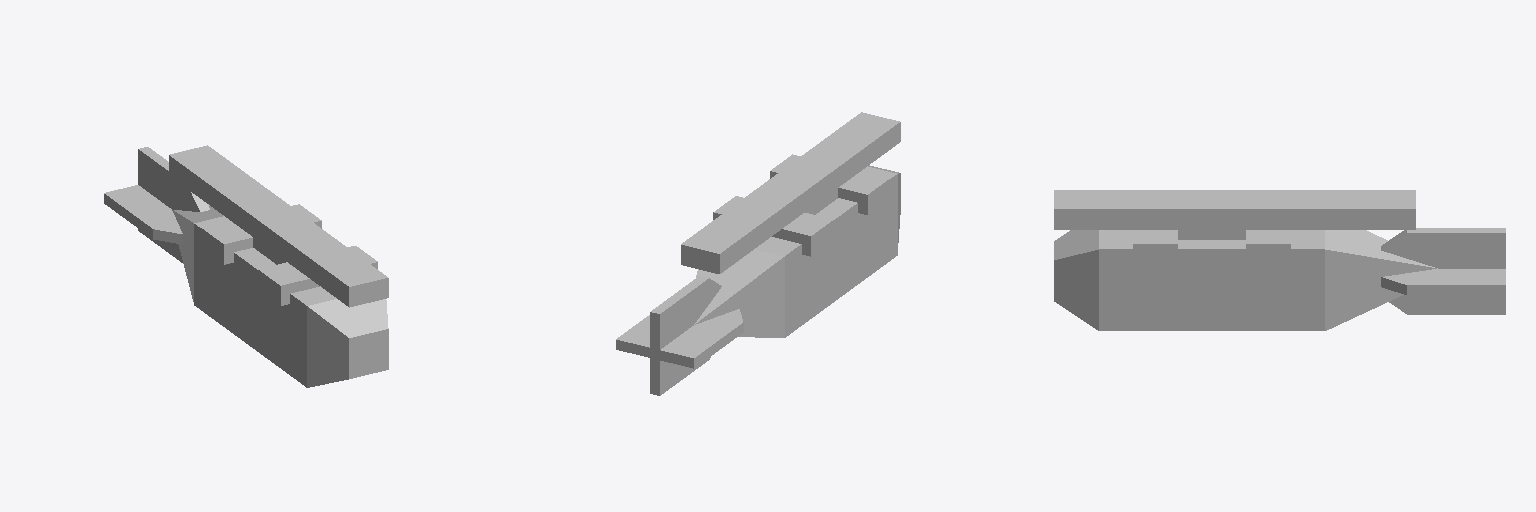
Rendered from basicbomb_hardpoint.obj.
3 renders of one model, left to right at view 1: azimuth 30°, elevation 25°; view 2: azimuth 150°, elevation 25°; view 3: azimuth 270°, elevation 25°, orthographic.
Visible parts, largest first — view 1: basicbomb1, cube; view 2: basicbomb1, cube; view 3: basicbomb1, cube.
Boxes of the visible parts, box(x1,y1,x2,y2) form: basicbomb1: box(104, 147, 388, 387); cube: box(169, 145, 388, 307); basicbomb1: box(616, 165, 900, 395); cube: box(681, 112, 900, 273); basicbomb1: box(1054, 228, 1505, 330); cube: box(1054, 190, 1415, 264).
Size of the model in its own units: 0.3125 by 0.3438 by 1.25.